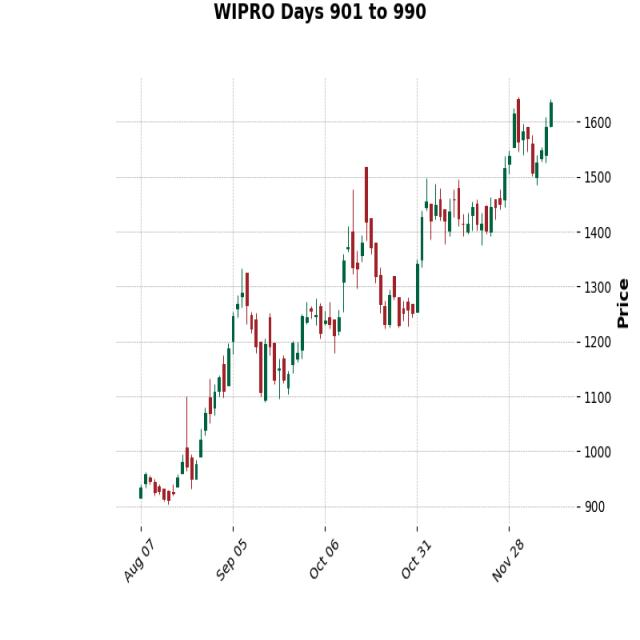Ascending Triangle: (418, 186, 509, 332)
